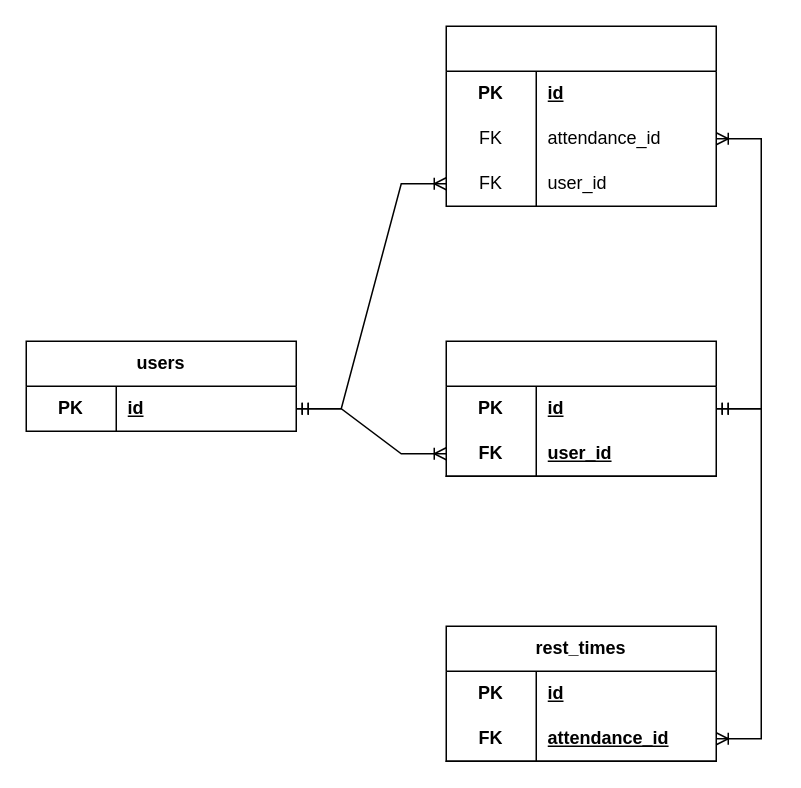
Some shapes in this 801 by 788 pixel diagram are drawn without their labels. Here are the shapes that lost their labels. From the top down, the box of each, then its label:
(445, 25, 716, 206): stamp_correction_requests
(445, 340, 716, 476): attendances
